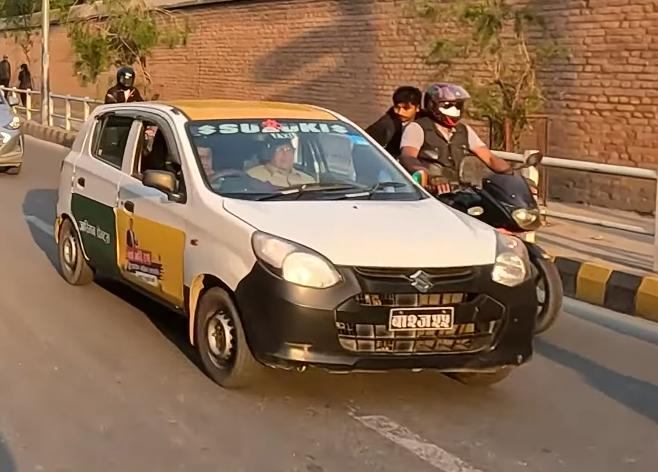bike: (408, 148, 565, 336)
taxi: (51, 88, 527, 401)
